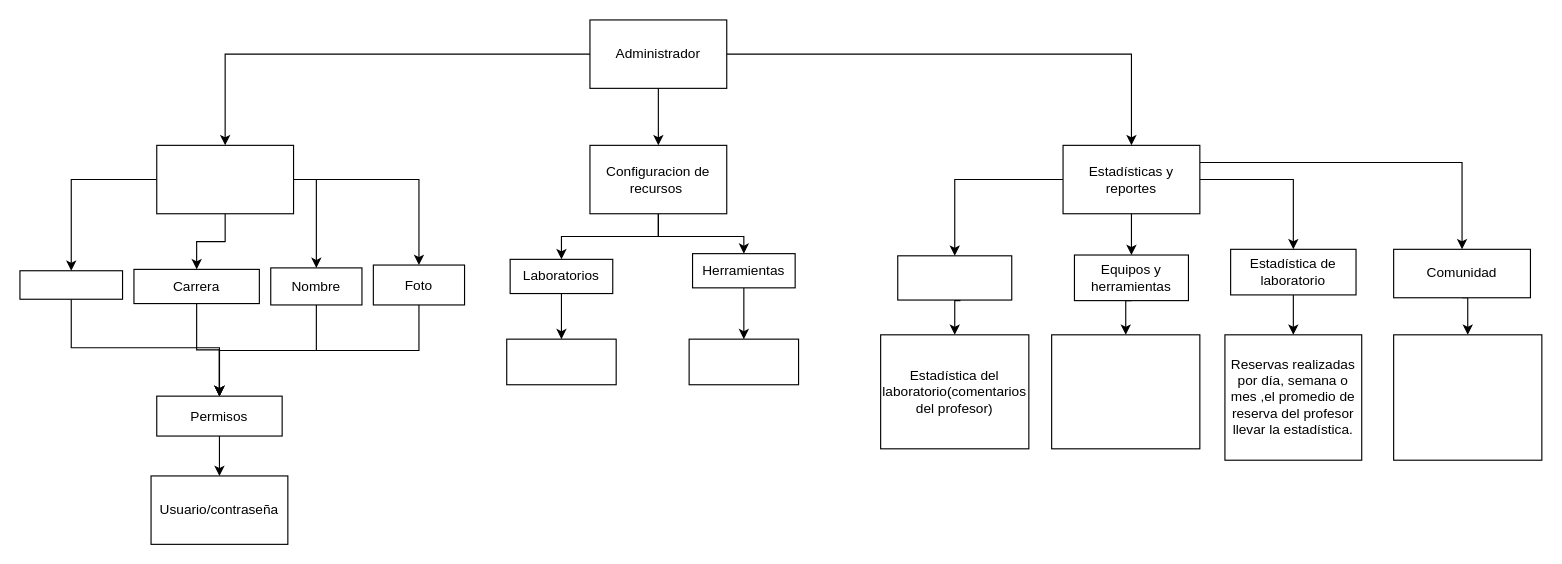
Some shapes in this 1562 by 564 pixel diagram are drawn without their labels. Here are the shapes that lost their labels. From the top down, the centre of each, then its label:
At point 225,179: "Registro Profesor".
At point 71,284: "Clave".
At point 954,277: "Informes".
At point 561,361: "Agregar nuevos laboratorios".
At point 743,361: "Nueva herramienta".
At point 1125,391: "Mantenimiento del servicio de laboratorios o de herramientas".
At point 1467,397: "Poder informar a los profesores sobre nuevas actualizaciones".
